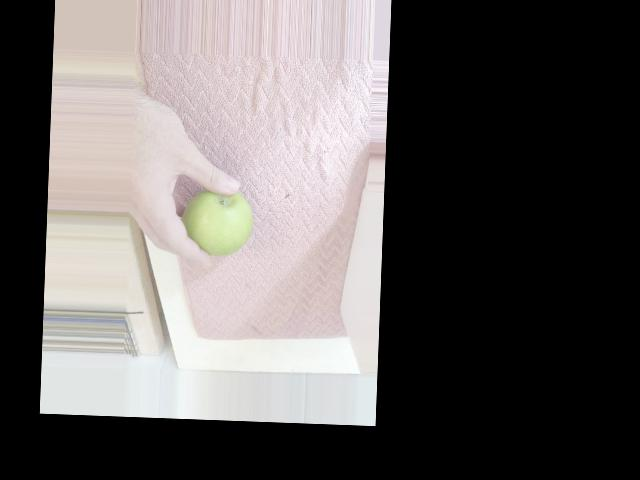apple: (183, 184, 265, 266)
